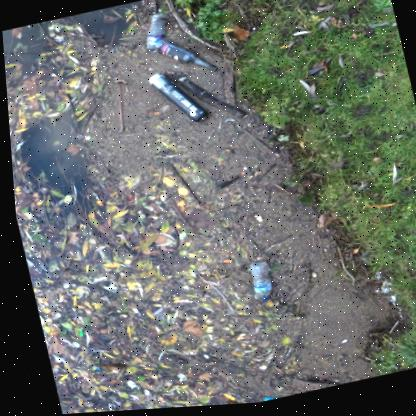Metal: (146, 75, 205, 124)
Plastic: (152, 41, 215, 74), (145, 16, 168, 53), (245, 264, 266, 304)
